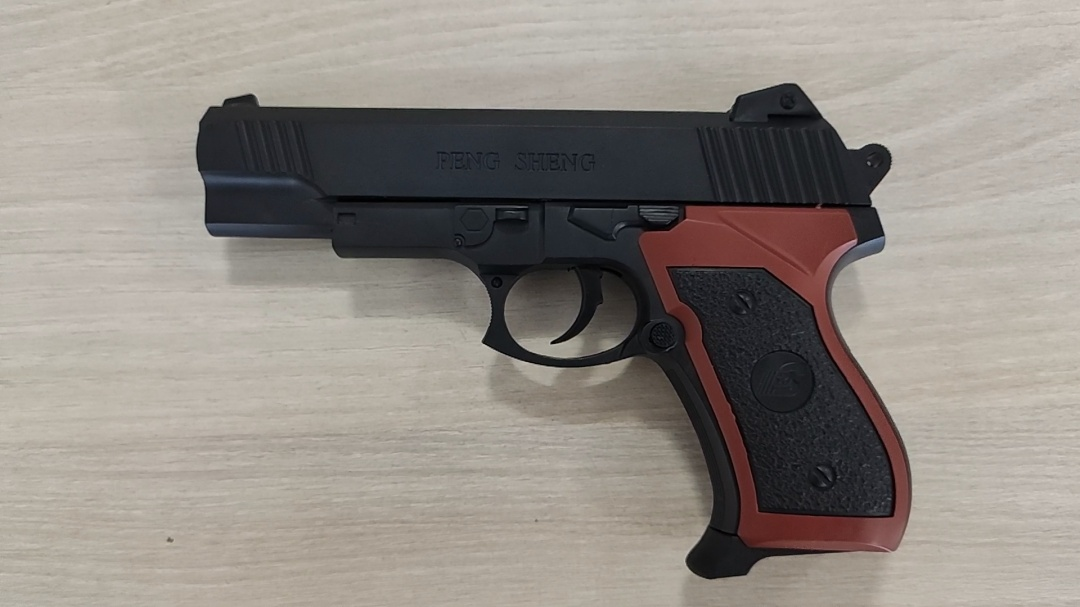gun: (195, 84, 913, 580)
